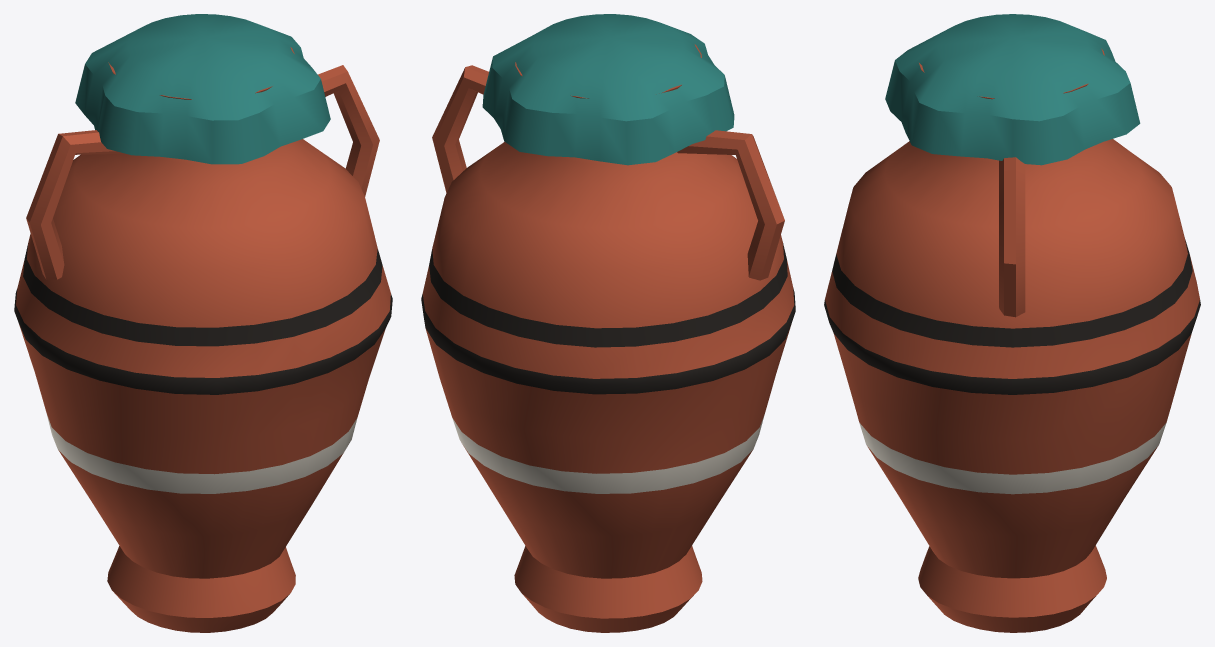
File: deco_gourd_jar_medium.fbx
The picture shows the model from 3 angles, left to right: view 1: azimuth 30°, elevation 25°; view 2: azimuth 150°, elevation 25°; view 3: azimuth 270°, elevation 25°; orthographic projection.
Visible parts, largest first — view 1: GourdJar_Medium_Body, GourdJar_Medium_Lid; view 2: GourdJar_Medium_Body, GourdJar_Medium_Lid; view 3: GourdJar_Medium_Body, GourdJar_Medium_Lid.
Part boxes in pixels (box(x1,y1,x2,y2)): GourdJar_Medium_Body: box(14, 47, 392, 632); GourdJar_Medium_Lid: box(75, 14, 330, 164); GourdJar_Medium_Body: box(421, 44, 795, 632); GourdJar_Medium_Lid: box(482, 14, 734, 165); GourdJar_Medium_Body: box(824, 48, 1200, 632); GourdJar_Medium_Lid: box(885, 14, 1140, 165).
Size of the model in its own units: 64.28 by 99 by 59.99.
